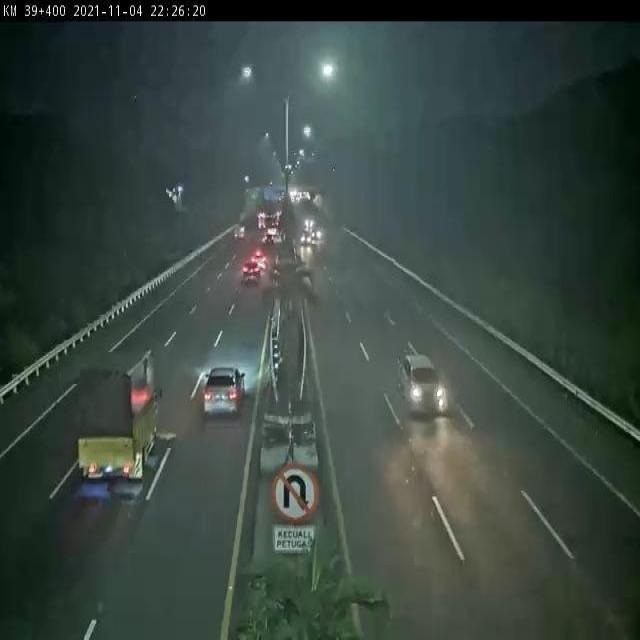car: (399, 355, 448, 416), (203, 366, 246, 414), (242, 258, 260, 282), (253, 251, 266, 272), (300, 230, 313, 247)
truck-m-: (75, 358, 158, 478)
